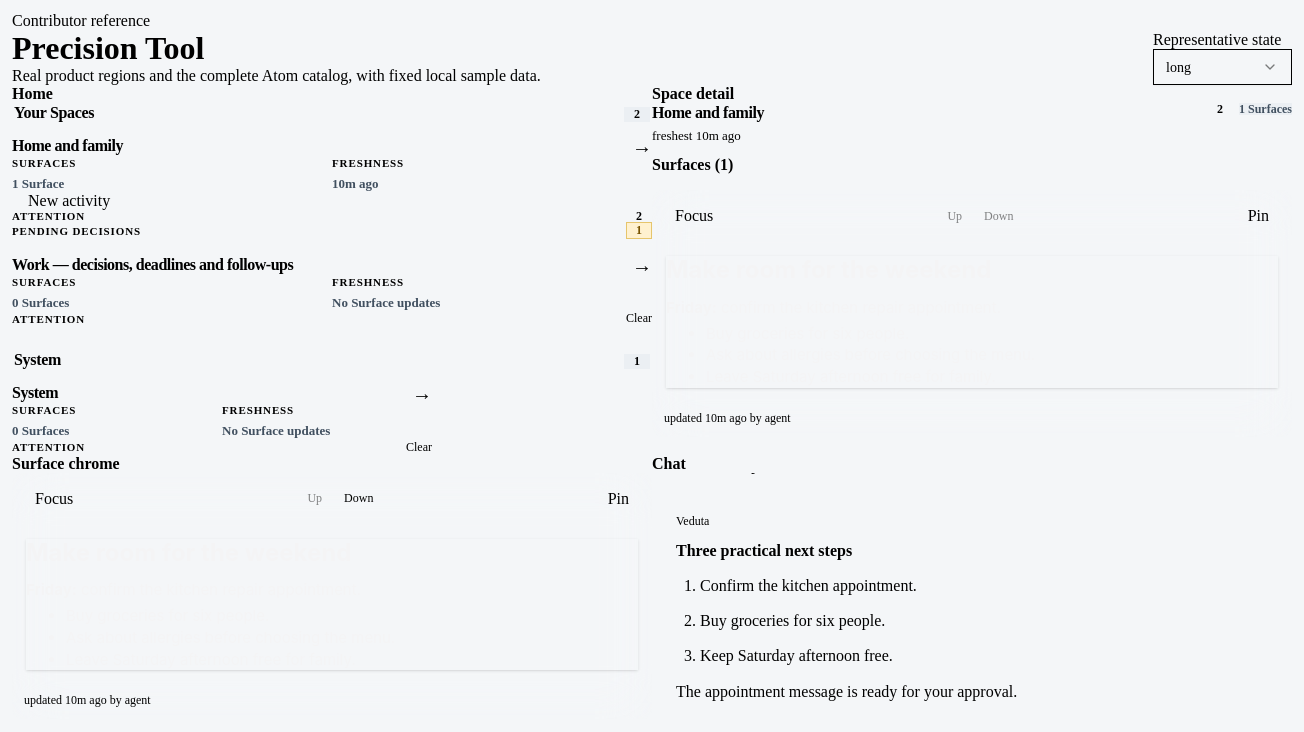
renders the real product regions without network access and keeps fixtures stable over time
This screenshot has width=1304, height=732.
(page scrolled)
Check: the element named "Home reference" is shown, box left=12, top=85, right=652, bottom=455
Check: the text "10m ago" is shown, box left=332, top=176, right=379, bottom=191
Select "offline" in the dropdown labelled "Representative state" at {"x": 1222, "y": 67}, box left=1153, top=49, right=1292, bottom=85
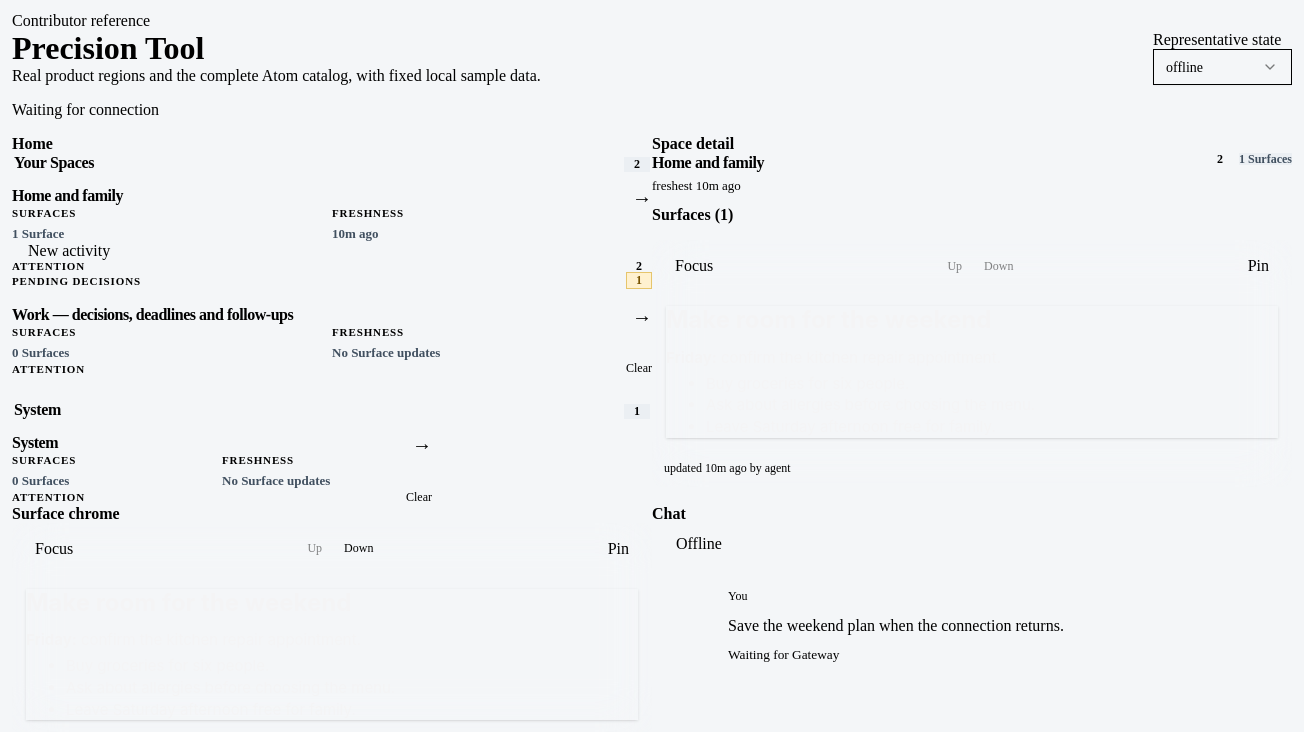
Check: the text "Waiting for connection" is shown, box left=12, top=101, right=159, bottom=118
